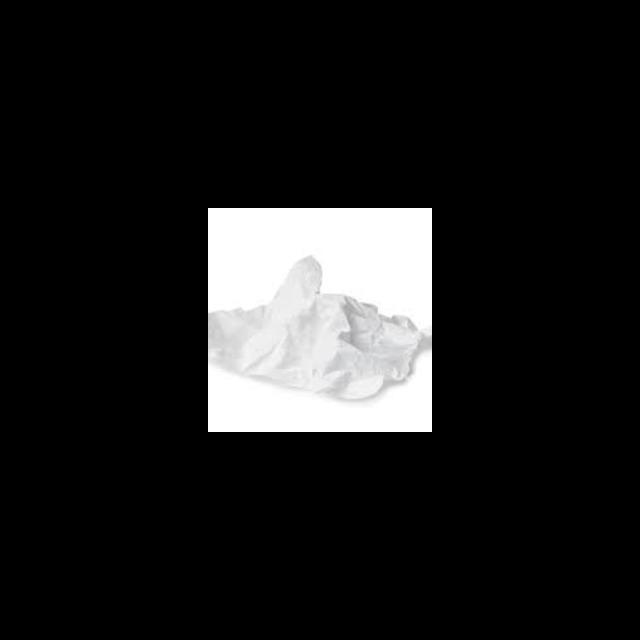paper: (208, 242, 432, 417)
